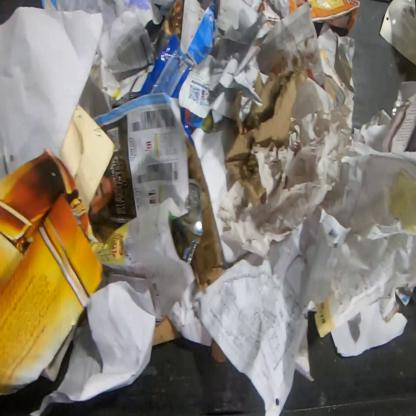cardboard: (224, 50, 309, 210), (184, 134, 224, 292), (88, 53, 155, 103), (129, 0, 176, 61), (152, 314, 182, 347), (210, 339, 229, 364)
metal: (172, 177, 205, 265)
rigid_plastic: (388, 0, 415, 48)
soft_plastic: (138, 33, 195, 99), (181, 106, 194, 138)
